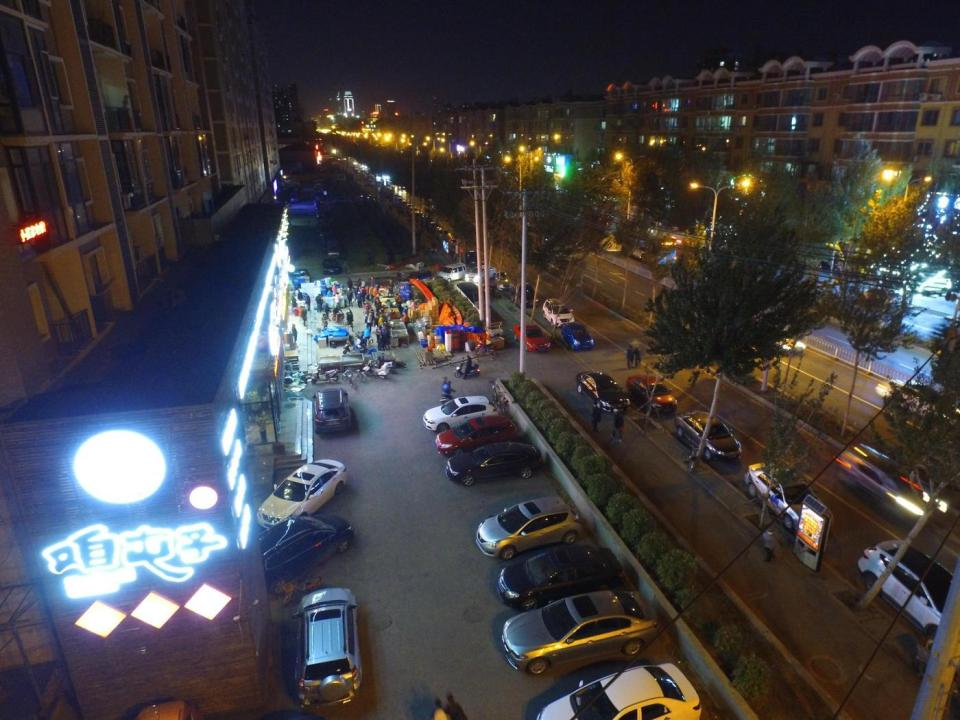bus: (616, 230, 676, 264)
car: (501, 589, 657, 675), (857, 540, 960, 643), (535, 662, 701, 720), (836, 443, 948, 524), (496, 544, 624, 611), (292, 588, 361, 707), (255, 517, 354, 594), (475, 496, 582, 559), (744, 462, 832, 536), (256, 459, 346, 528), (446, 441, 542, 487), (875, 379, 960, 426), (435, 415, 517, 458), (674, 409, 741, 460), (422, 396, 498, 433), (576, 371, 629, 412), (626, 375, 678, 414), (313, 388, 351, 434), (760, 326, 806, 355), (514, 324, 550, 352), (561, 322, 594, 351), (542, 298, 574, 327), (859, 288, 902, 309), (510, 283, 538, 307), (464, 265, 497, 283), (494, 272, 513, 291), (466, 251, 484, 267), (322, 258, 340, 274), (326, 239, 340, 258), (436, 228, 452, 242), (449, 239, 463, 252), (421, 215, 434, 228), (428, 222, 440, 234), (408, 206, 419, 217), (332, 174, 345, 182), (290, 193, 298, 202), (417, 213, 424, 222), (382, 174, 389, 180), (324, 155, 333, 159), (354, 168, 359, 173)
van: (438, 262, 466, 282), (406, 270, 435, 285), (286, 268, 310, 284), (332, 196, 352, 203)
